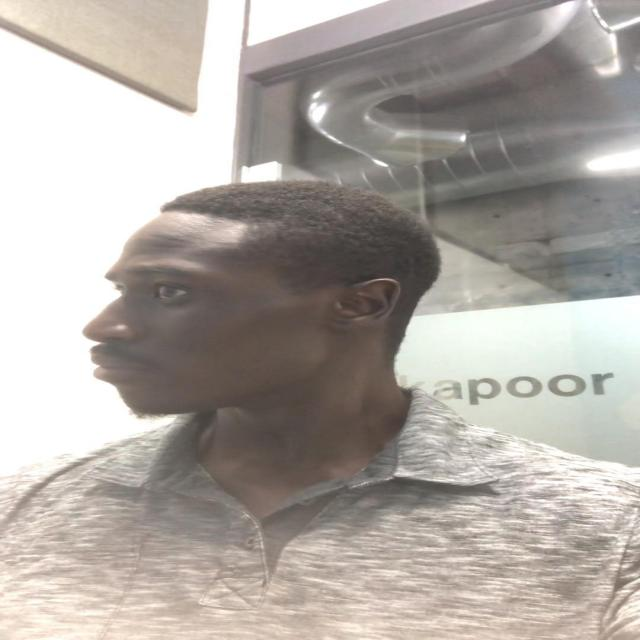face: (80, 228, 348, 422)
